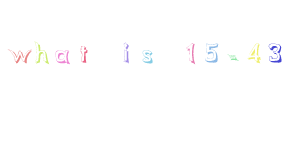-: (226, 52, 241, 63)
1: (185, 41, 197, 65)
3: (266, 41, 284, 64)
4: (245, 41, 261, 64)
5: (203, 41, 219, 63)
a: (53, 48, 72, 65)
h: (34, 40, 49, 64)
i: (119, 40, 132, 64)
s: (139, 48, 154, 63)
t: (77, 44, 89, 64)
w: (7, 47, 31, 65)
